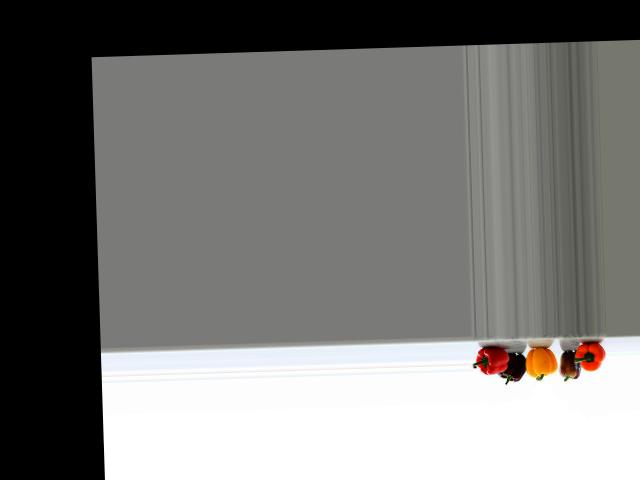bell_pepper: (573, 338, 606, 381)
